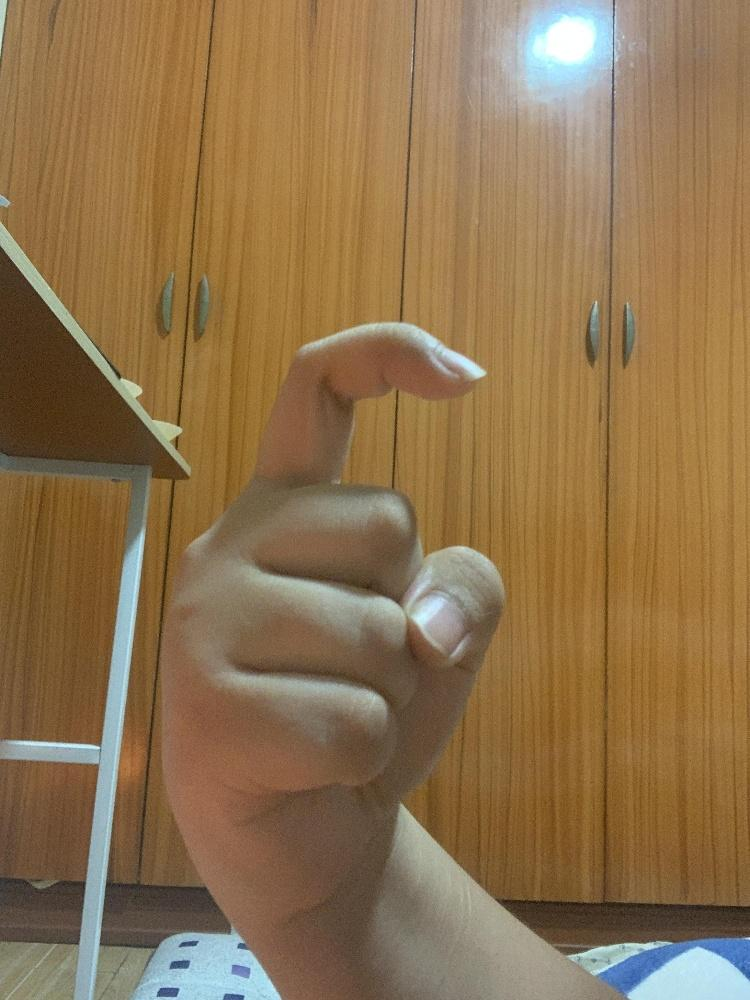x: (153, 319, 506, 872)
